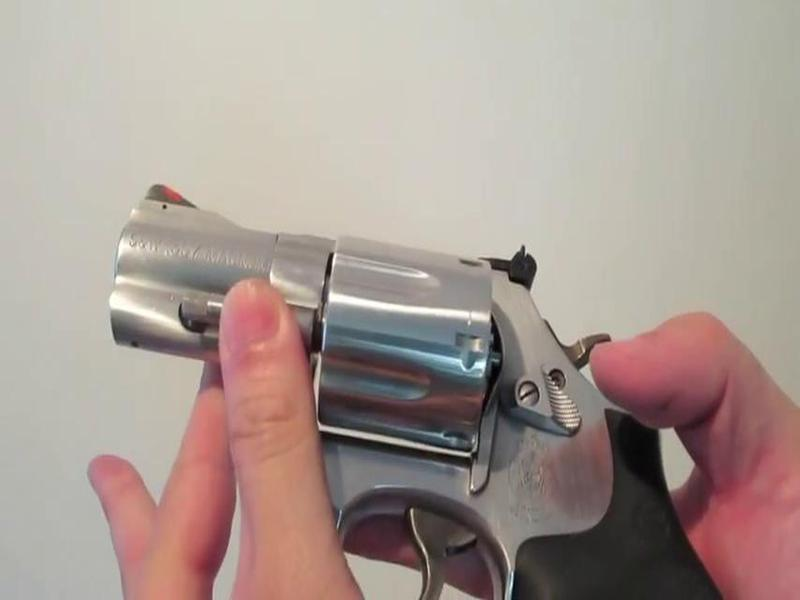Revolver: (79, 151, 700, 600)
